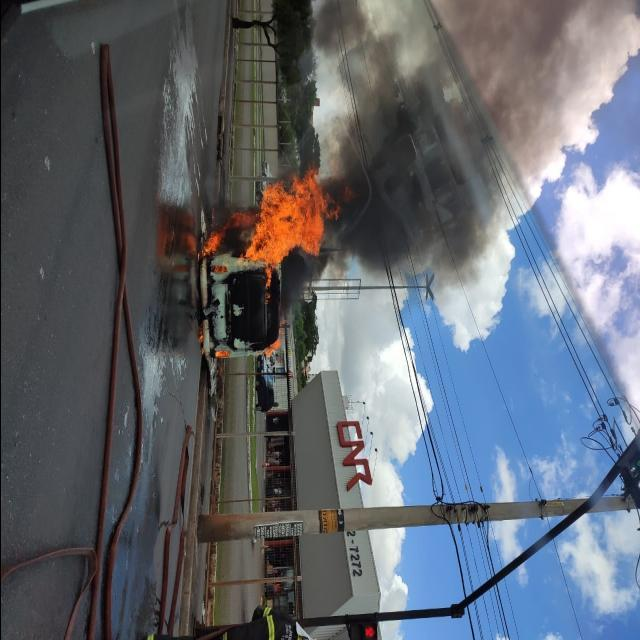Fire: (237, 165, 337, 289), (203, 229, 223, 255), (263, 339, 280, 357), (215, 351, 227, 358)
